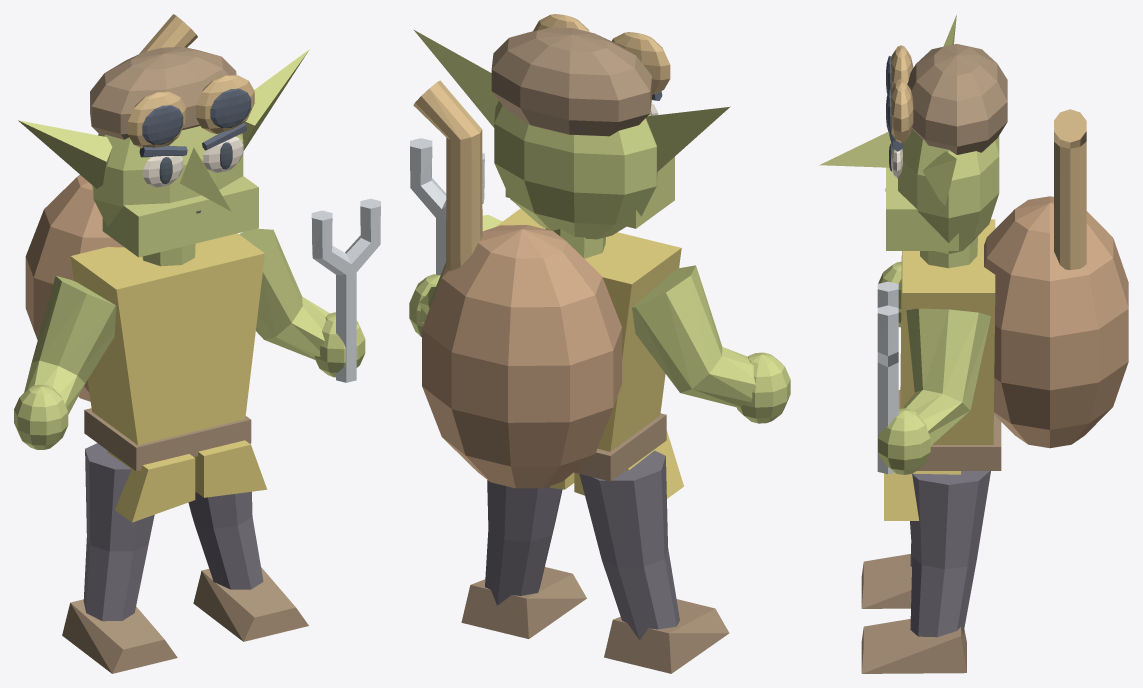
Rendered from boiler-tinkerer.glb.
3 views of the same model, side by side, from view 1: azimuth 30°, elevation 25°; view 2: azimuth 150°, elevation 25°; view 3: azimuth 270°, elevation 25° (orthographic). The views are drawn at different scales.
Visible parts, largest first — view 1: torso, leg_-1, arm_-1, leather_cap, jaw, boiler, arm_1, head, leg_1, foot_-1, foot_1, belt (+18 smaller); view 2: boiler, head, leather_cap, leg_-1, arm_-1, torso, leg_1, steam_pipe, foot_-1, foot_1, hand_-1, belt (+11 smaller); view 3: boiler, leg_1, leather_cap, torso, arm_1, head, steam_pipe, foot_1, jaw, hand_1, foot_-1, belt (+9 smaller).
Part boxes in pixels (bbox=[...]): torso: bbox=[70, 233, 264, 445]; leg_-1: bbox=[83, 443, 154, 621]; arm_-1: bbox=[24, 276, 116, 414]; leather_cap: bbox=[90, 47, 236, 139]; jaw: bbox=[102, 176, 258, 257]; boiler: bbox=[25, 175, 123, 401]; arm_1: bbox=[239, 228, 329, 359]; head: bbox=[92, 126, 243, 226]; leg_1: bbox=[188, 443, 263, 589]; foot_-1: bbox=[62, 599, 177, 673]; foot_1: bbox=[193, 567, 308, 641]; belt: bbox=[84, 408, 251, 471]; boiler: bbox=[422, 225, 621, 488]; head: bbox=[494, 101, 657, 239]; leather_cap: bbox=[491, 27, 651, 136]; leg_-1: bbox=[579, 450, 679, 640]; arm_-1: bbox=[632, 265, 755, 407]; torso: bbox=[496, 208, 681, 451]; leg_1: bbox=[485, 480, 562, 605]; steam_pipe: bbox=[413, 80, 482, 271]; foot_-1: bbox=[604, 599, 729, 673]; foot_1: bbox=[461, 567, 586, 638]; hand_-1: bbox=[736, 352, 790, 423]; belt: bbox=[574, 413, 666, 481]; boiler: bbox=[984, 196, 1128, 448]; leg_1: bbox=[910, 471, 990, 637]; leather_cap: bbox=[907, 44, 1007, 154]; torso: bbox=[900, 219, 995, 444]; arm_1: bbox=[903, 308, 990, 445]; head: bbox=[898, 129, 999, 253]; steam_pipe: bbox=[1054, 109, 1086, 269]; foot_1: bbox=[861, 619, 966, 673]; jaw: bbox=[886, 167, 958, 250]; hand_1: bbox=[878, 408, 930, 474]; foot_-1: bbox=[861, 554, 911, 608]; belt: bbox=[898, 390, 1001, 470].
Bounding box in the file's own units: 0.6951 × 1.05 × 0.5169.
